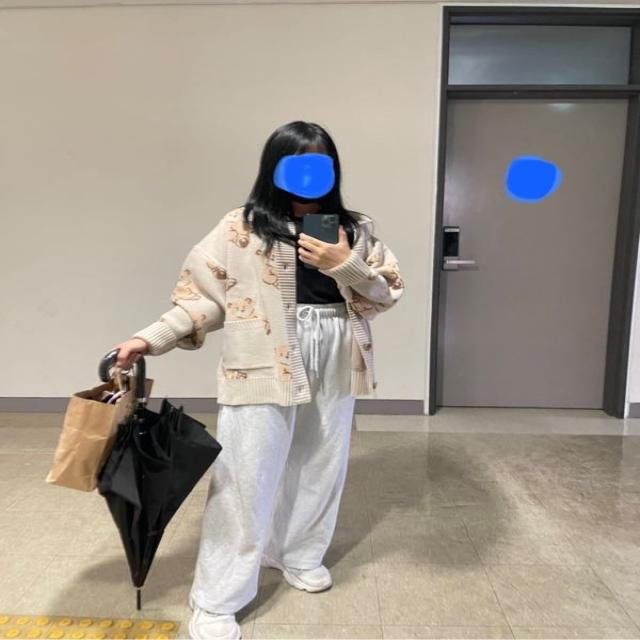cardigan: (129, 204, 407, 408)
trainingpants: (188, 303, 357, 615)
